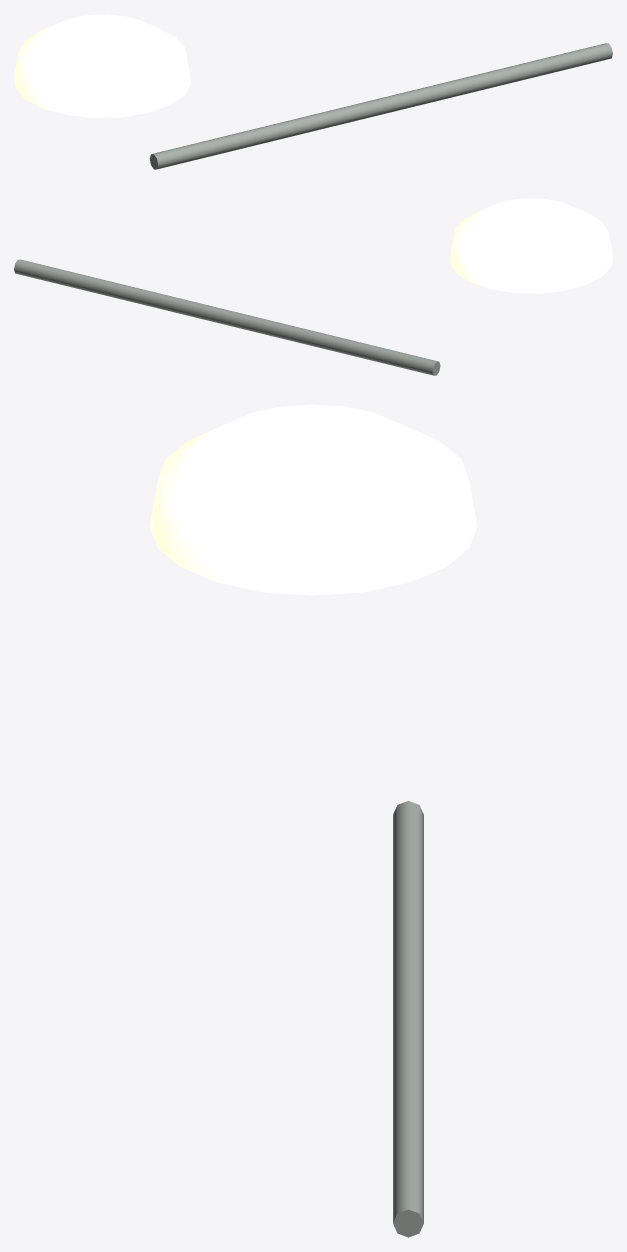
Rendered from SM_Town_Motel_Room6Fixtures.fbx.
The picture shows the model from 3 angles, top to bottom: view 1: azimuth 30°, elevation 25°; view 2: azimuth 150°, elevation 25°; view 3: azimuth 270°, elevation 25°; orthographic projection. The views are drawn at different scales.
Visible parts, largest first — view 1: SM_Town_Motel_Room6Fixtures; view 2: SM_Town_Motel_Room6Fixtures; view 3: SM_Town_Motel_Room6Fixtures.
Part boxes in pixels (x1=…): SM_Town_Motel_Room6Fixtures: x1=14, y1=14, x2=612, y2=169; SM_Town_Motel_Room6Fixtures: x1=14, y1=198, x2=612, y2=375; SM_Town_Motel_Room6Fixtures: x1=149, y1=404, x2=477, y2=1237.
Size of the model in its own units: 1.5 by 0.38 by 0.398.
